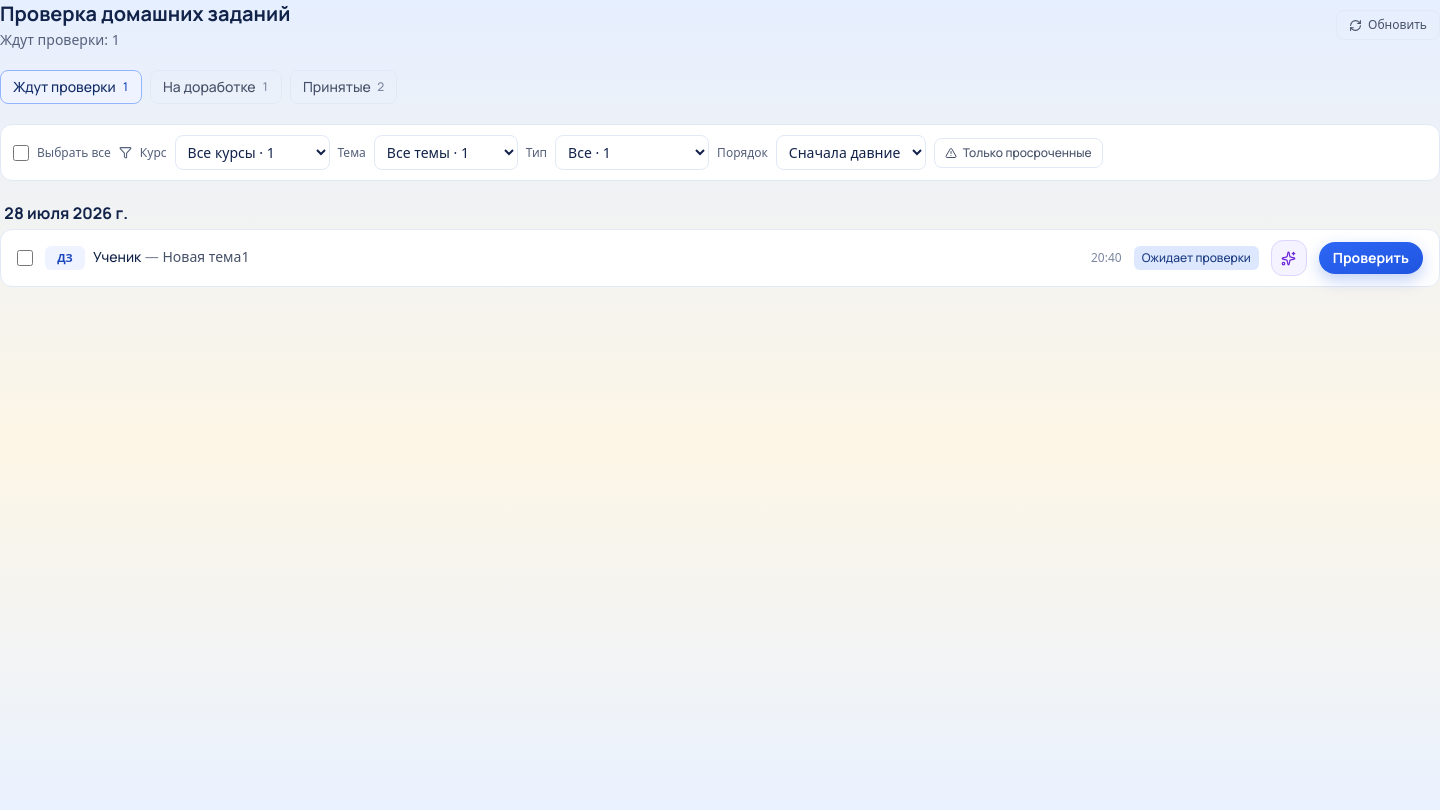
HomeworkReviewQueuePage — вкладки состояний › у проверенной работы в разборе вердикт, а не форма
The width and height of the screenshot is (1440, 810).
Click the tab with test id "queue-tab-accepted". click: (344, 87)
box: [290,70,397,104]
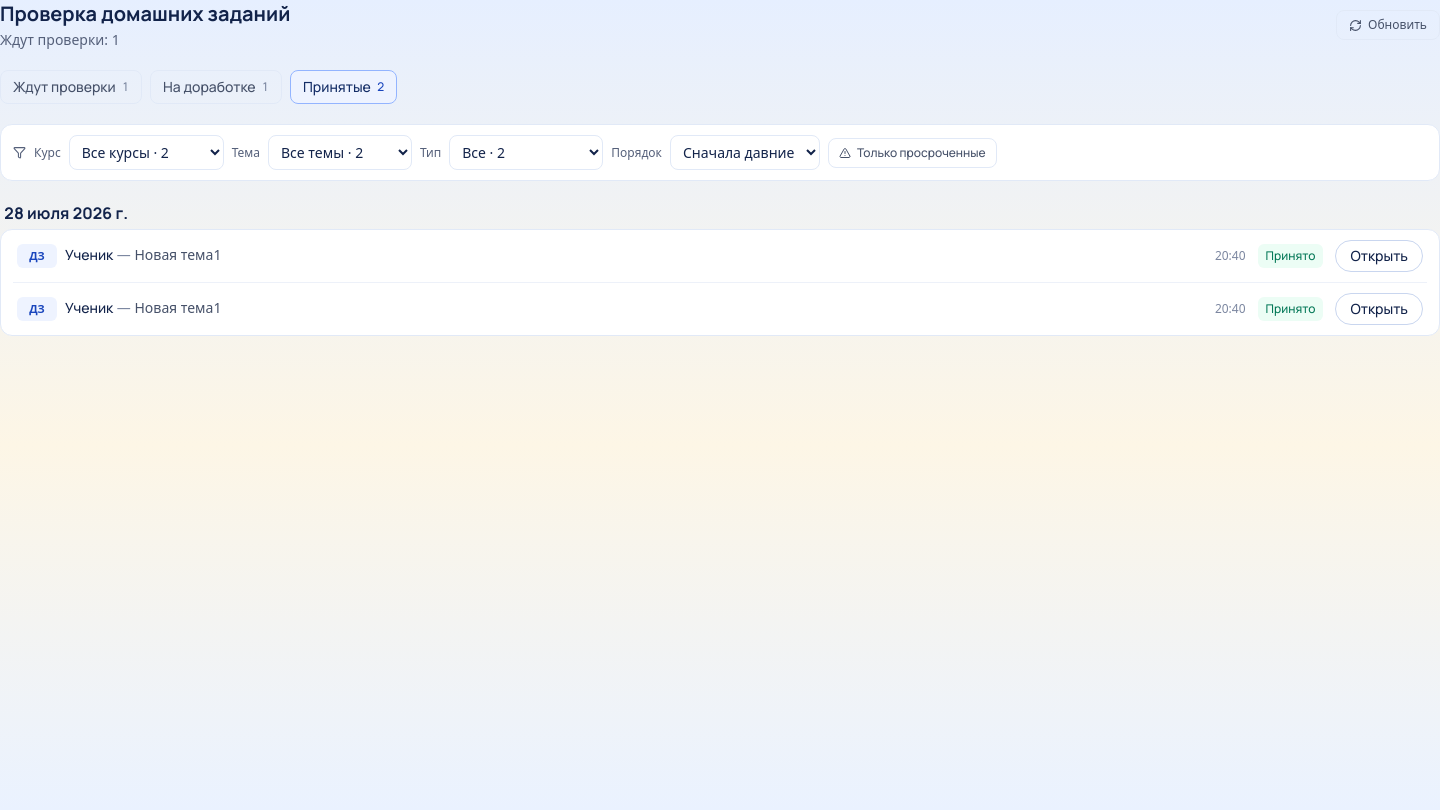
Click the 1st button "Открыть". click: (1379, 256)
box: [1335,240,1423,272]
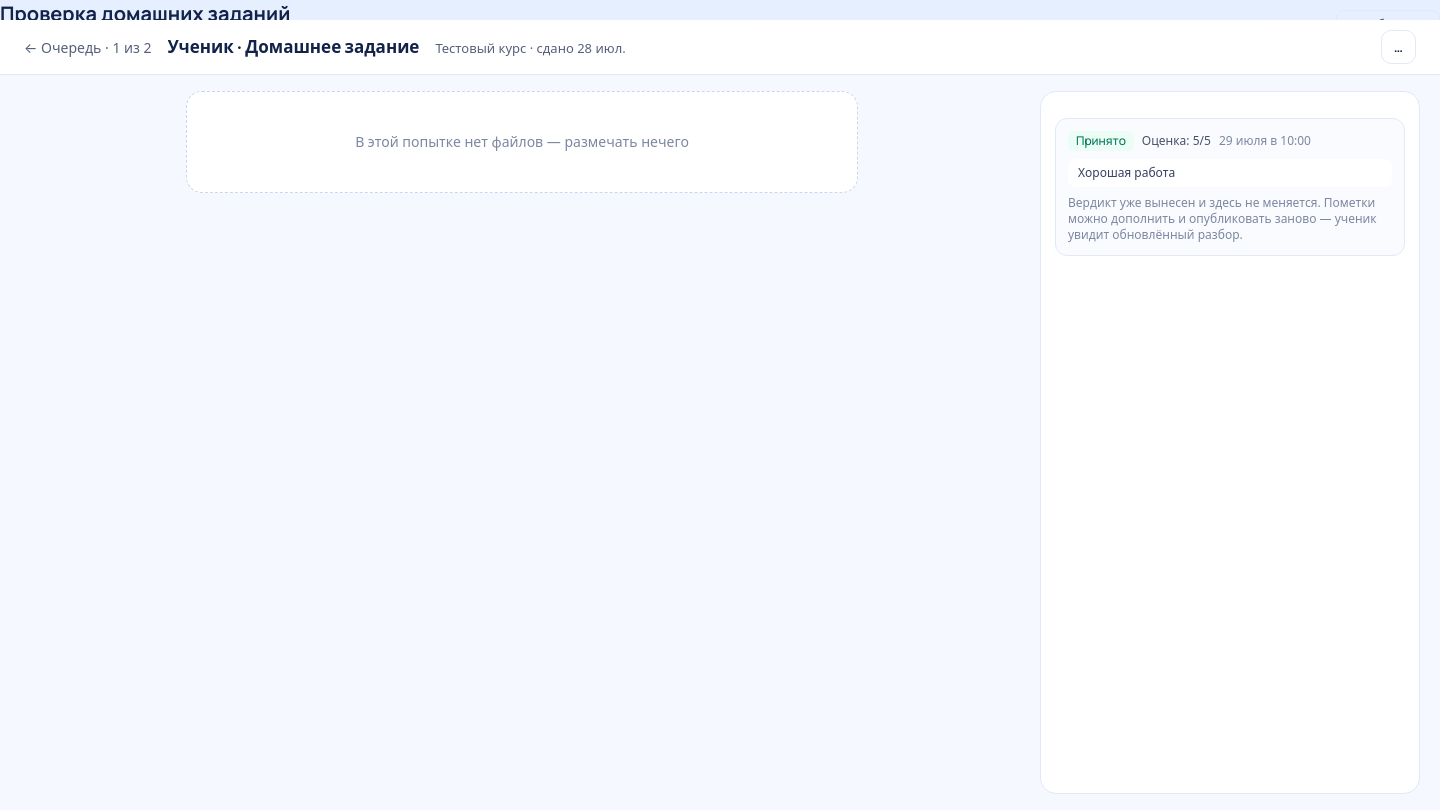
Now the element with test id "queue-verdict-summary" shows "Принято", box [1076,132,1126,149]
Now the element with test id "queue-verdict-summary" shows "Оценка: 5/5", box [1055,118,1405,256]
Now the element with test id "queue-verdict-summary" shows "Хорошая работа", box [1078,164,1175,181]
